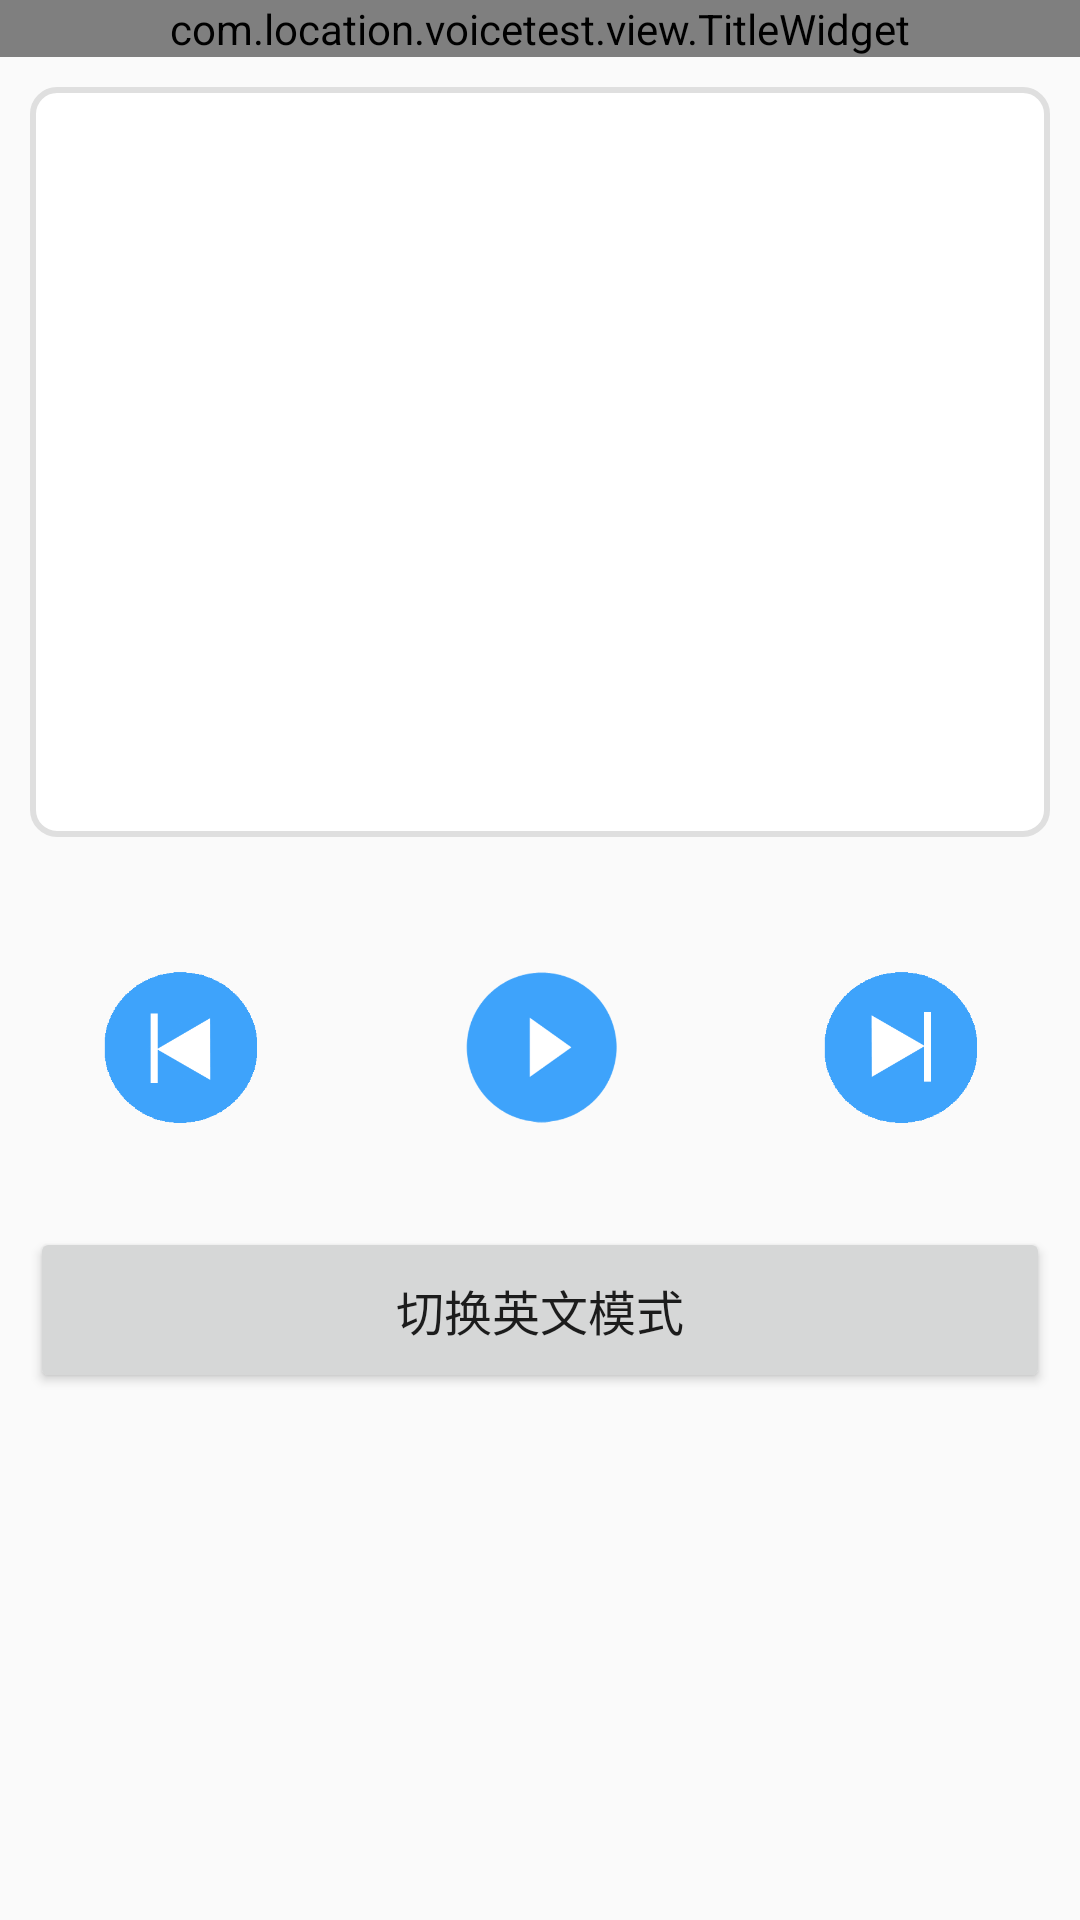

Screen size 1080 x 1920. Icon name, then its box in pixels as (x1, y1, x2, y2):
bofangone: (466, 972, 617, 1123)
nextone: (824, 972, 977, 1123)
